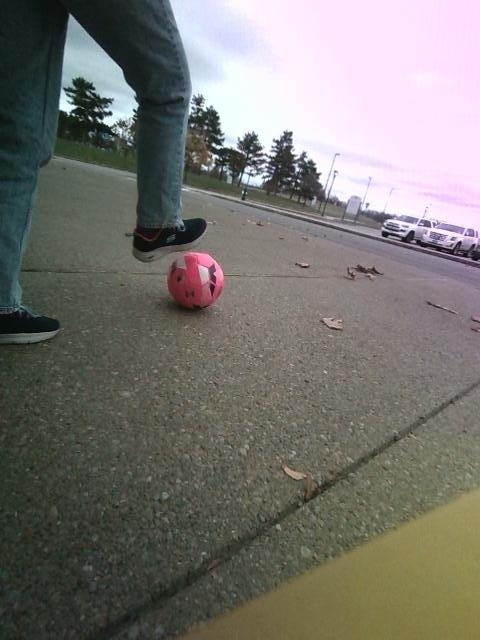ball: (167, 252, 223, 308)
